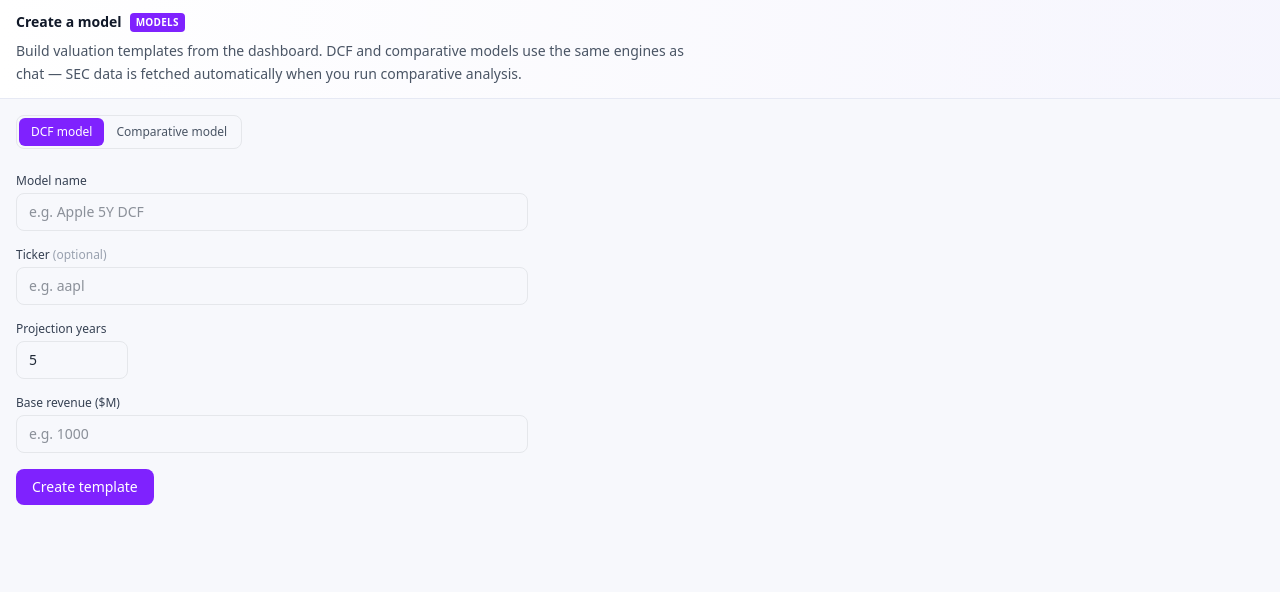
ModelsHubPanel › shows fill message when DCF create clicked without required values
Click the button "Create template" at [85, 486], box 16,468 -> 154,504
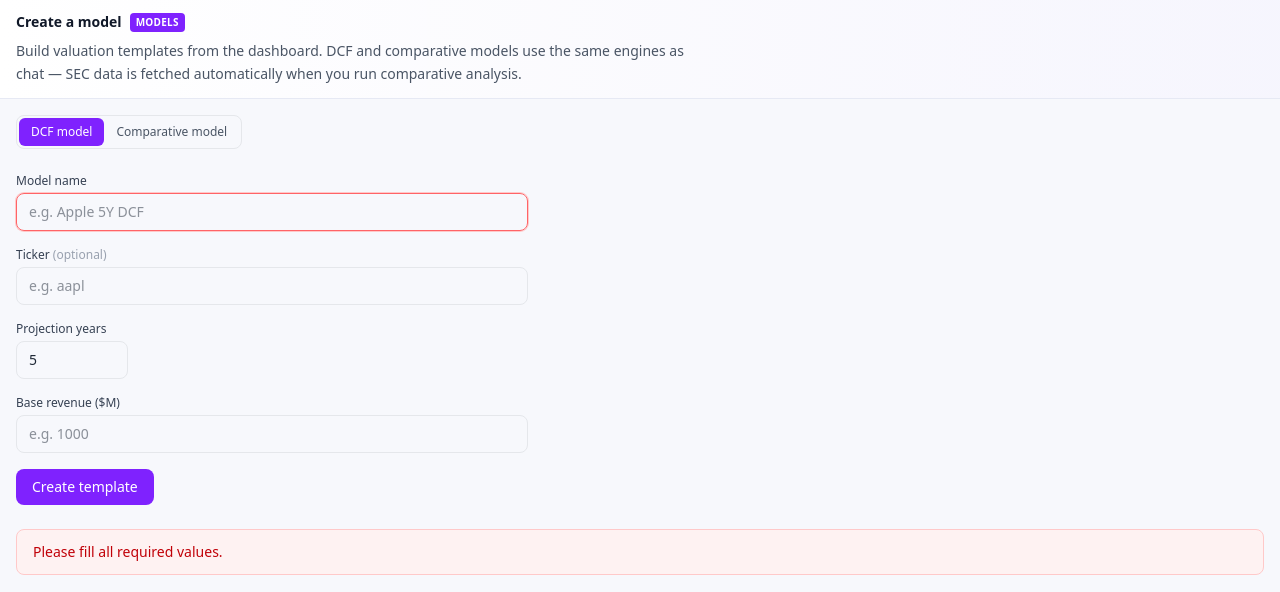
Now the text "Please fill all required values." is shown, box 16,528 -> 1264,574
